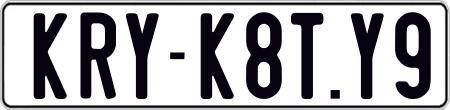8: (243, 11, 280, 102)
9: (395, 11, 431, 100)
K: (201, 12, 236, 99), (31, 10, 64, 97)
R: (78, 12, 117, 100)
T: (289, 11, 327, 98)
Y: (125, 13, 160, 99), (349, 12, 382, 100)
